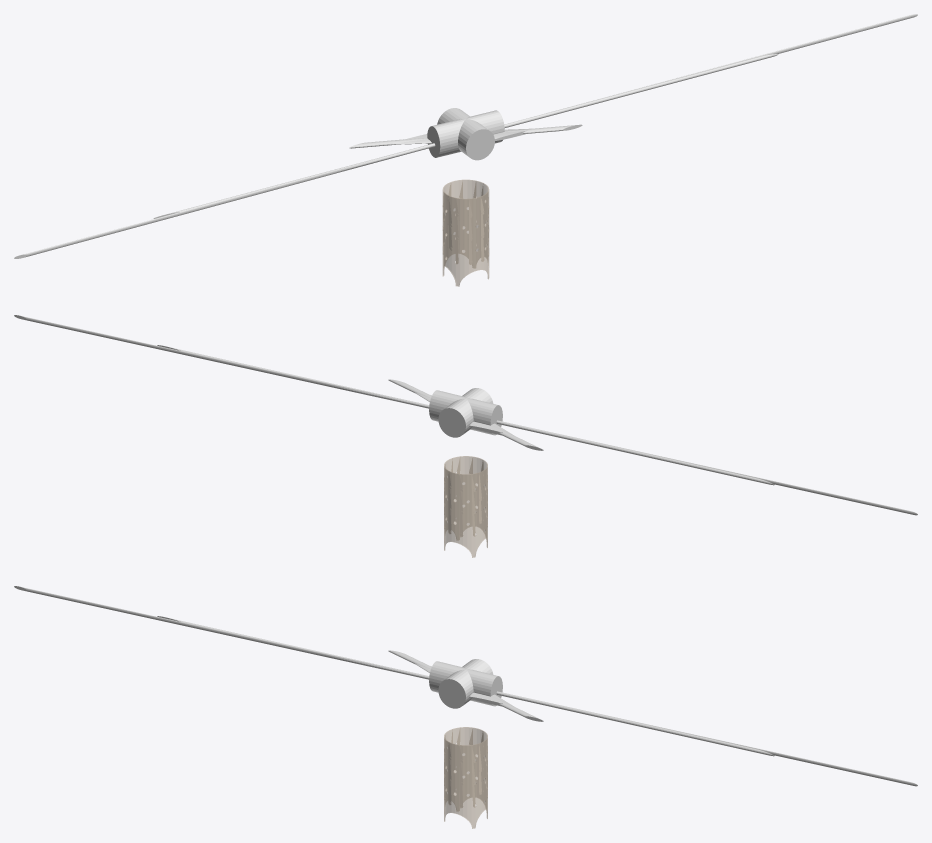
3 renders of one model, top to bottom at view 1: azimuth 30°, elevation 25°; view 2: azimuth 150°, elevation 25°; view 3: azimuth 330°, elevation 25°, orthographic. The views are drawn at different scales.
Parts seen in each view (by area): view 1: Cylinder, Cylinder.003, Cylinder.002, Cylinder.006, Cylinder.007, Cylinder.004; view 2: Cylinder, Cylinder.003, Cylinder.002, Cylinder.007, Cylinder.006; view 3: Cylinder, Cylinder.003, Cylinder.002, Cylinder.007, Cylinder.006.
Boxes of the visible parts, x1,y1,x2,y2 form: Cylinder: (442, 179, 489, 286); Cylinder.003: (14, 14, 917, 258); Cylinder.002: (153, 54, 778, 218); Cylinder.006: (427, 110, 504, 157); Cylinder.007: (437, 108, 494, 160); Cylinder.004: (349, 124, 582, 148); Cylinder: (444, 456, 487, 557); Cylinder.003: (14, 315, 917, 515); Cylinder.002: (157, 345, 774, 485); Cylinder.007: (438, 388, 493, 437); Cylinder.006: (429, 390, 502, 435); Cylinder: (444, 727, 487, 828); Cylinder.003: (14, 586, 917, 786); Cylinder.002: (157, 616, 774, 756); Cylinder.007: (438, 659, 493, 708); Cylinder.006: (429, 661, 502, 706).
Size of the model in its own units: 57427 by 9371 by 3774.
